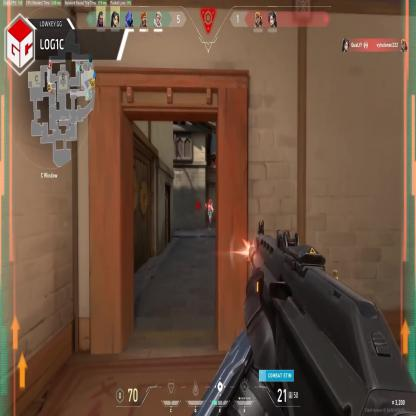enemy: (206, 199, 214, 228)
enemy_head: (208, 199, 212, 206)
